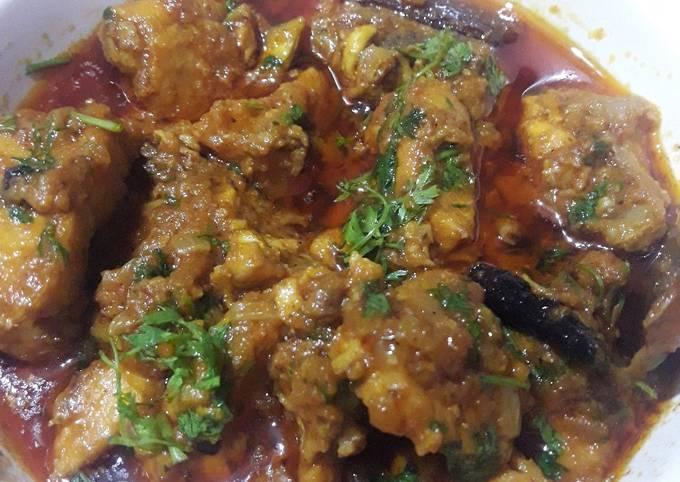chicken: (13, 19, 664, 470)
